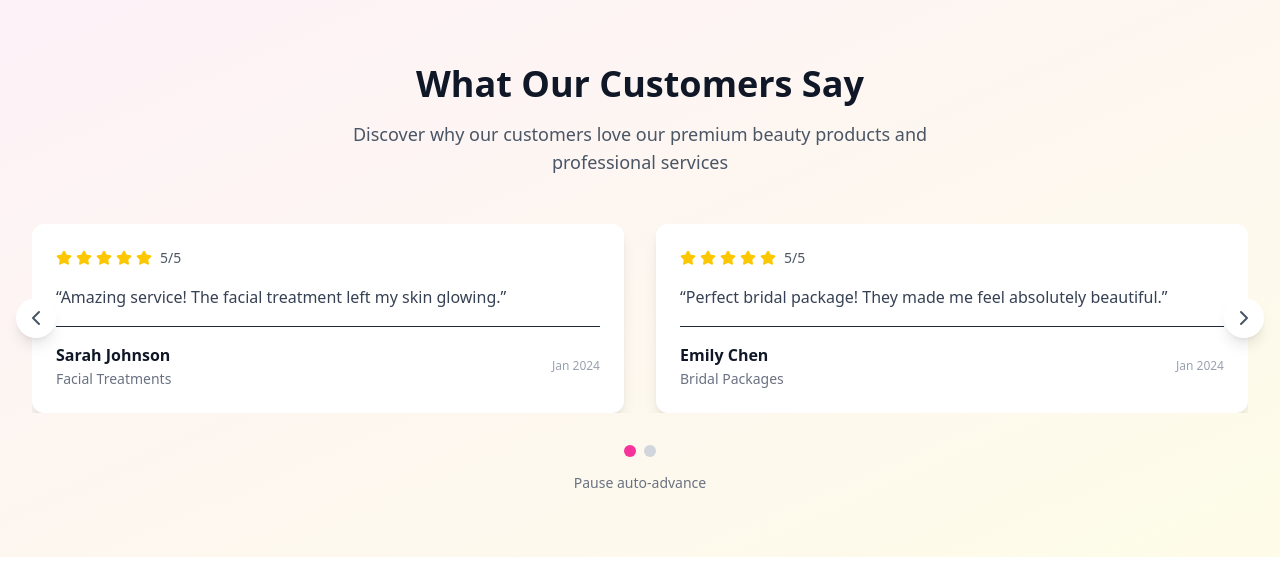
Scenario: Testimonials Component › handles pause/resume button
The image size is (1280, 574).
What coordinates should you click on to do the following:
click the button "Pause auto-advance"
I would click on:
 (640, 483)
Its box is [574,473,706,493].
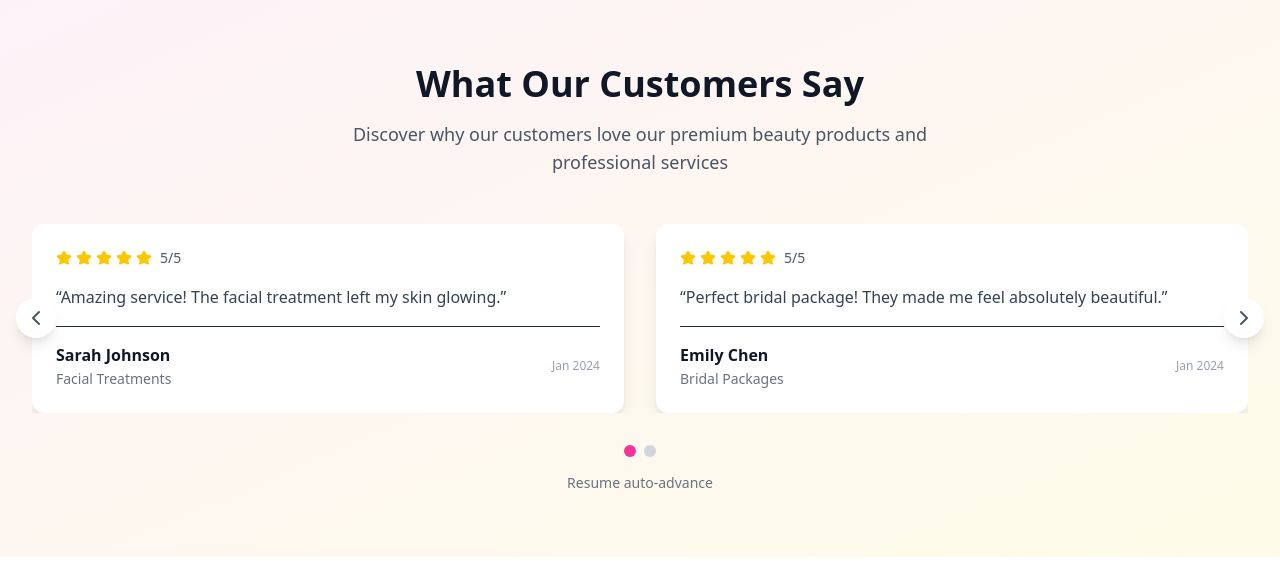
Expected: the button "Resume auto-advance" is shown
What coordinates should you click on to do the following:
click the button "Resume auto-advance"
I would click on:
 (640, 483)
Its box is [567,473,713,493].
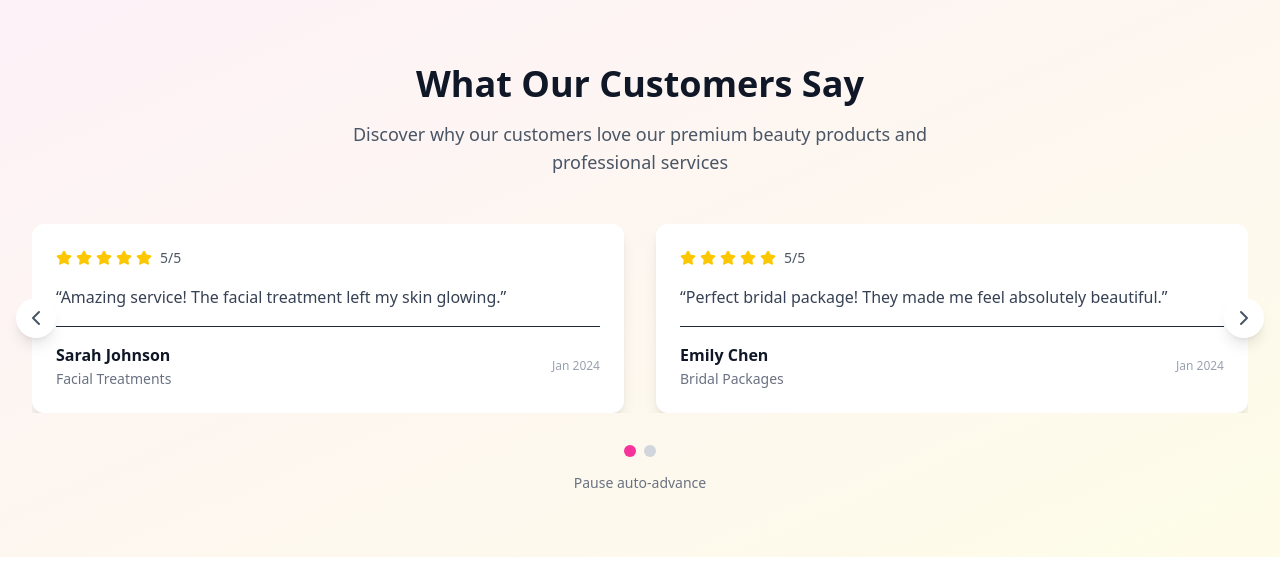
Expected: the button "Pause auto-advance" is shown, [574,473,706,493]
